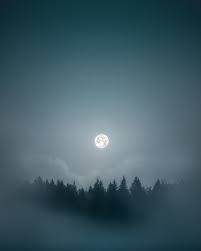moon: (92, 132, 110, 150)
